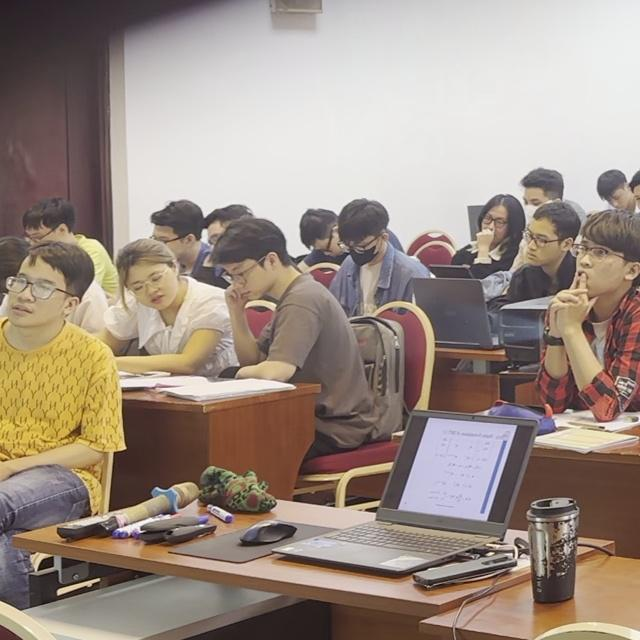Looking away: (223, 251, 273, 303), (128, 261, 178, 308), (347, 228, 386, 268), (527, 219, 560, 266), (607, 180, 631, 211)
Looking forward: (5, 256, 64, 329), (574, 237, 624, 297), (479, 203, 507, 242)
